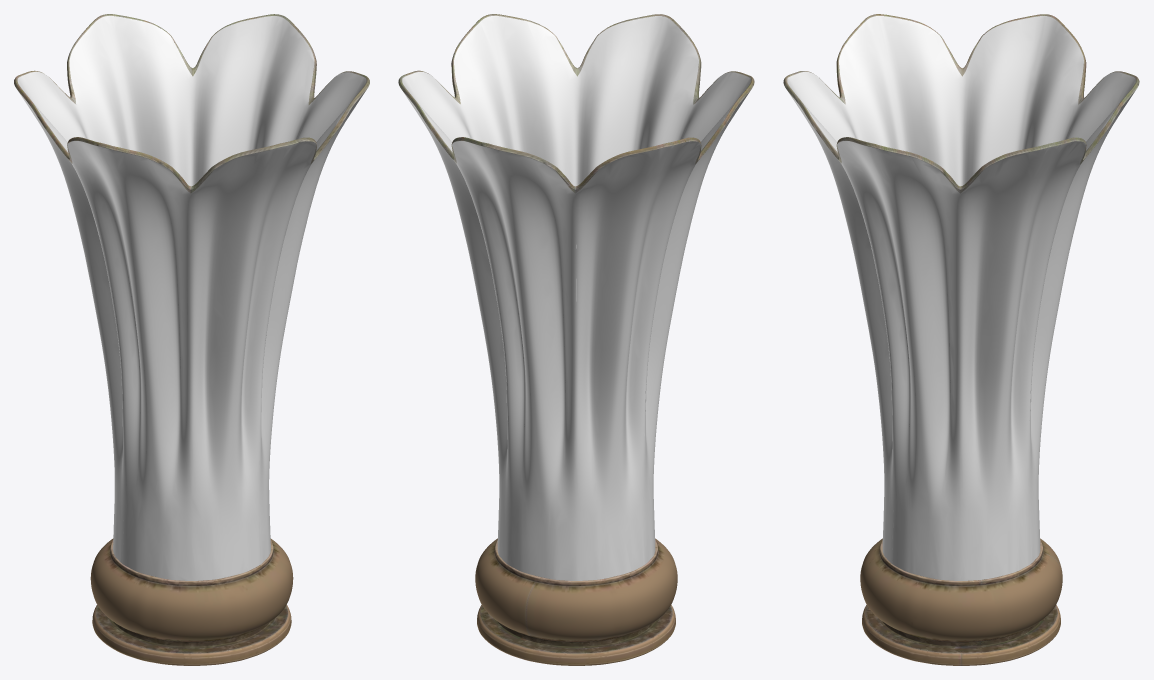
The model's file is 静物_瓶罐_vases_opt_split_20260816092721_std_opt.glb.
3 renders of one model, left to right at view 1: azimuth 30°, elevation 25°; view 2: azimuth 150°, elevation 25°; view 3: azimuth 270°, elevation 25°, orthographic.
Parts seen in each view (by area): view 1: mesh_13, mesh_0; view 2: mesh_13, mesh_0; view 3: mesh_13, mesh_0.
Boxes of the visible parts, <box> form: mesh_13: <box>14,14,369,580</box>; mesh_0: <box>90,538,293,665</box>; mesh_13: <box>398,14,754,580</box>; mesh_0: <box>475,538,677,665</box>; mesh_13: <box>783,14,1139,580</box>; mesh_0: <box>860,538,1062,665</box>.
Bounding box in the file's own units: 0.1582 × 0.3 × 0.1771.
2 materials, 2 textured.
